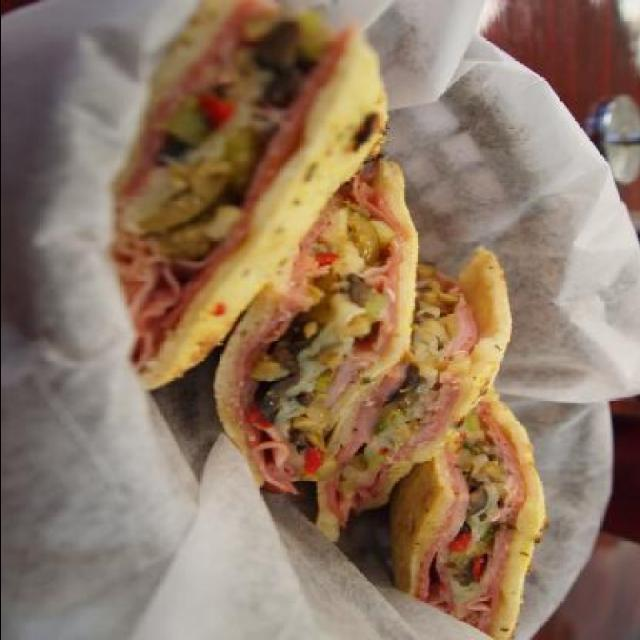Sandwich: (107, 0, 550, 640)
